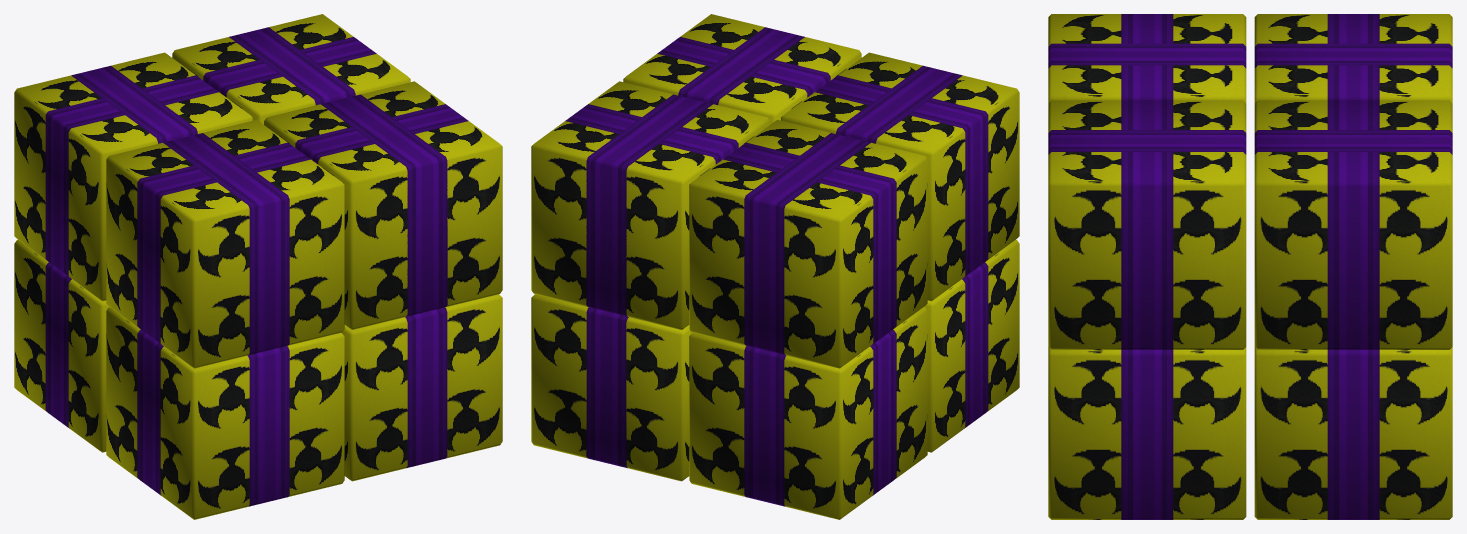
File: crate-darkeco-cluster-lod0.glb
3 renders of one model, left to right at view 1: azimuth 30°, elevation 25°; view 2: azimuth 150°, elevation 25°; view 3: azimuth 270°, elevation 25°, orthographic. The views are drawn at different scales.
Visible parts, largest first — view 1: clusterpolygon1, clusterpolygon0; view 2: clusterpolygon1, clusterpolygon0; view 3: clusterpolygon1, clusterpolygon0.
Boxes of the visible parts, x1,y1,x2,y2 form: clusterpolygon1: (14,14,502,519); clusterpolygon0: (45,27,468,506); clusterpolygon1: (531,14,1019,519); clusterpolygon0: (565,27,988,506); clusterpolygon1: (1048,14,1452,519); clusterpolygon0: (1048,14,1452,519).
Bounding box in the file's own units: 3.91 × 3.62 × 3.92.
9 materials, 9 textured.
